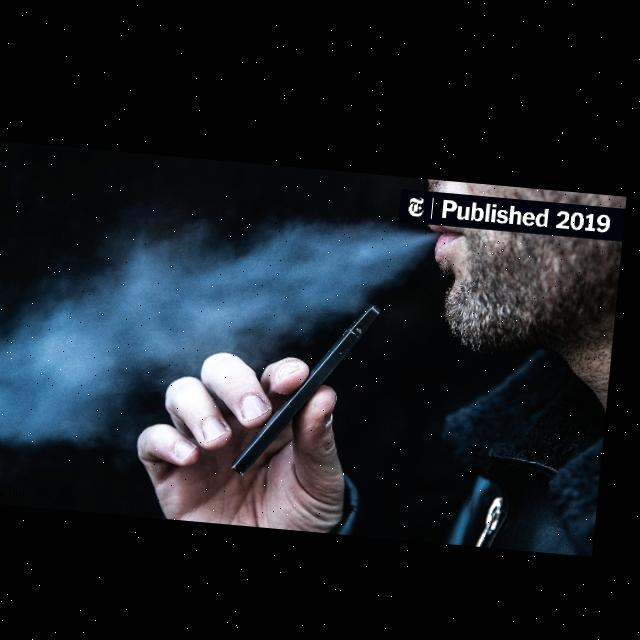vape: (239, 286, 387, 480)
